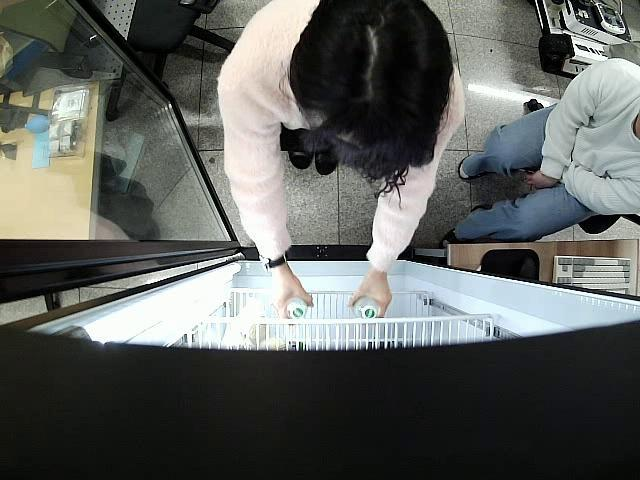18_trevi: (282, 296, 310, 322), (353, 298, 378, 320)
